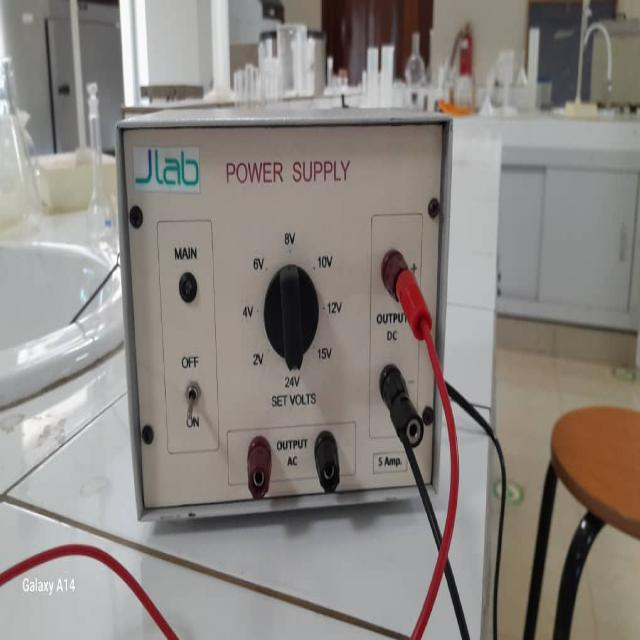Power Supply: (110, 112, 454, 518)
